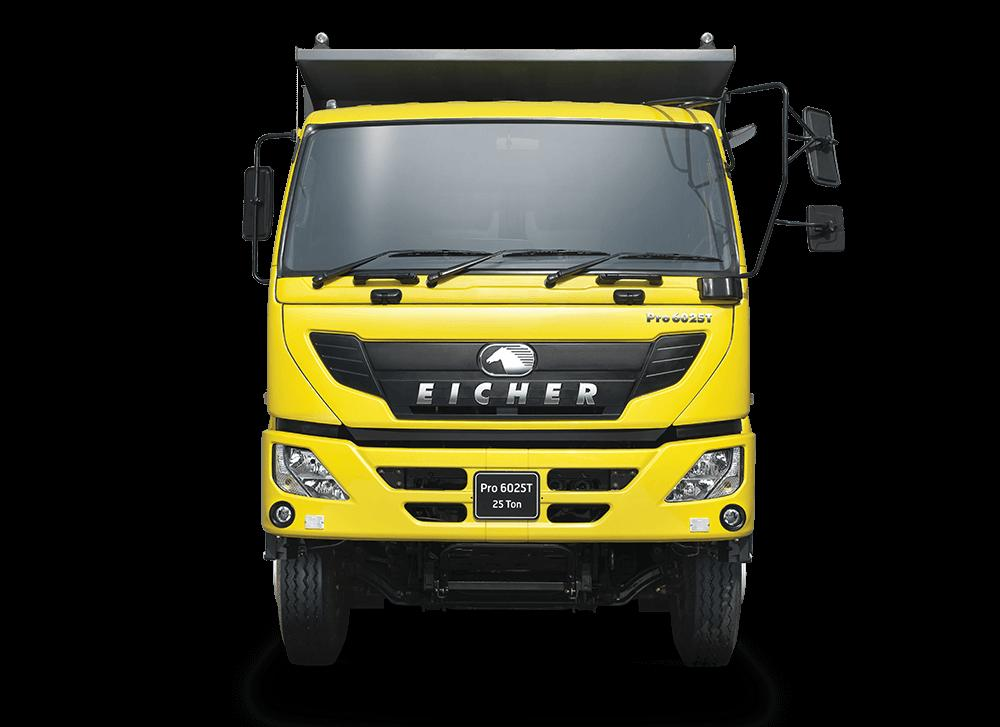truck: (241, 32, 844, 669)
